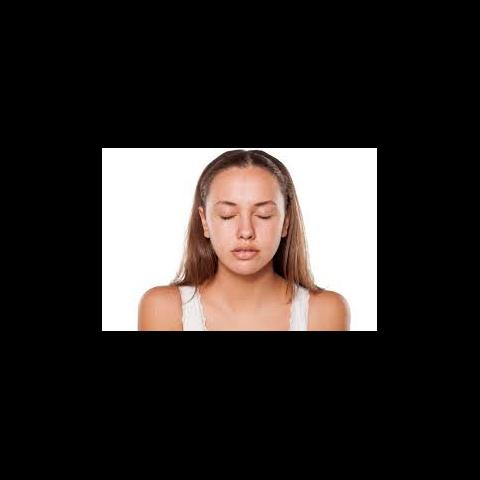closed: (208, 194, 284, 226)
